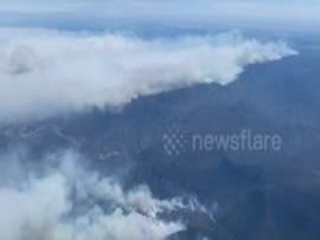smoke: (1, 21, 302, 115), (2, 156, 215, 240)
